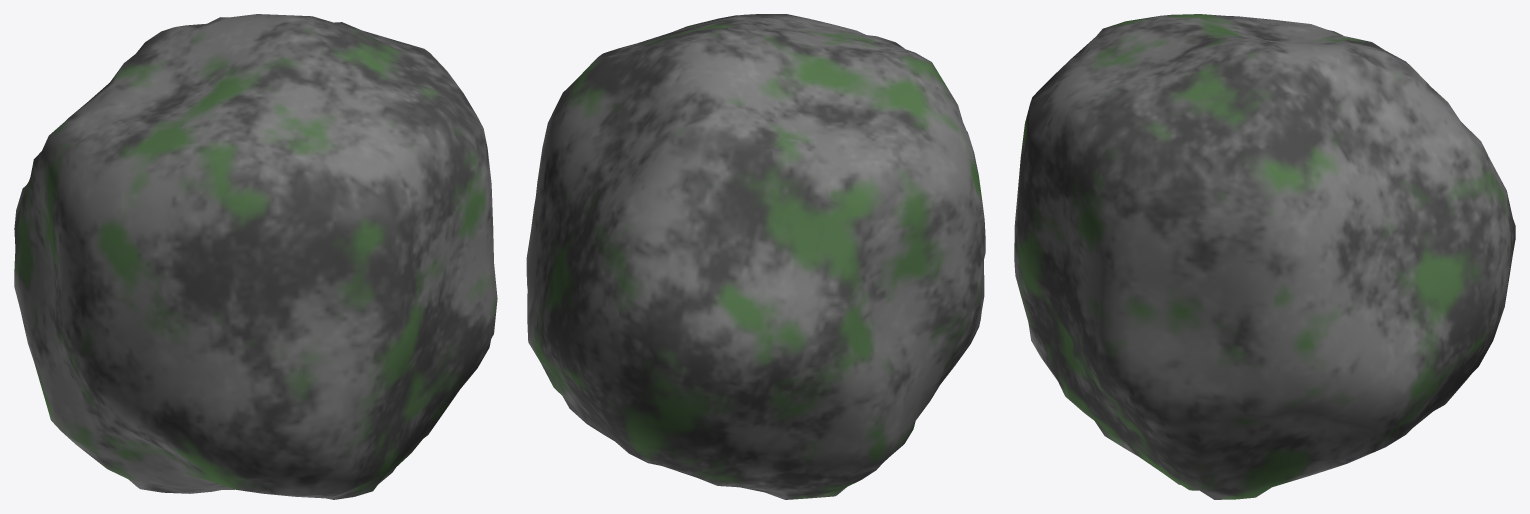
Rendered from RockC.fbx.
The picture shows the model from 3 angles, left to right: view 1: azimuth 30°, elevation 25°; view 2: azimuth 150°, elevation 25°; view 3: azimuth 270°, elevation 25°; orthographic projection. The views are drawn at different scales.
Parts seen in each view (by area): view 1: RockC; view 2: RockC; view 3: RockC.
Boxes of the visible parts, x1=… form: RockC: x1=14, y1=14, x2=497, y2=499; RockC: x1=526, y1=14, x2=985, y2=499; RockC: x1=1014, y1=14, x2=1515, y2=499.
Bounding box in the file's own units: 29.43 × 27.71 × 27.33.
1 material, 1 textured.
